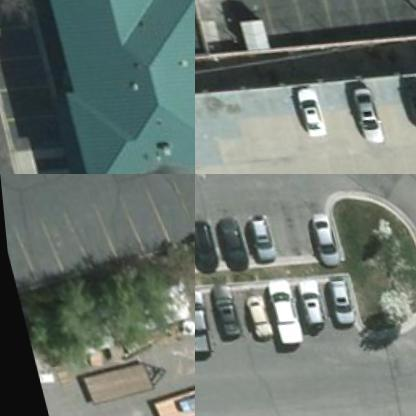car: (252, 271, 295, 341), (338, 73, 378, 142), (284, 82, 322, 138), (232, 206, 268, 262), (230, 284, 266, 340), (297, 207, 333, 262), (315, 268, 351, 323), (285, 268, 321, 323), (205, 214, 241, 269), (198, 279, 233, 334), (385, 67, 415, 122), (195, 284, 207, 356), (195, 213, 210, 269)
